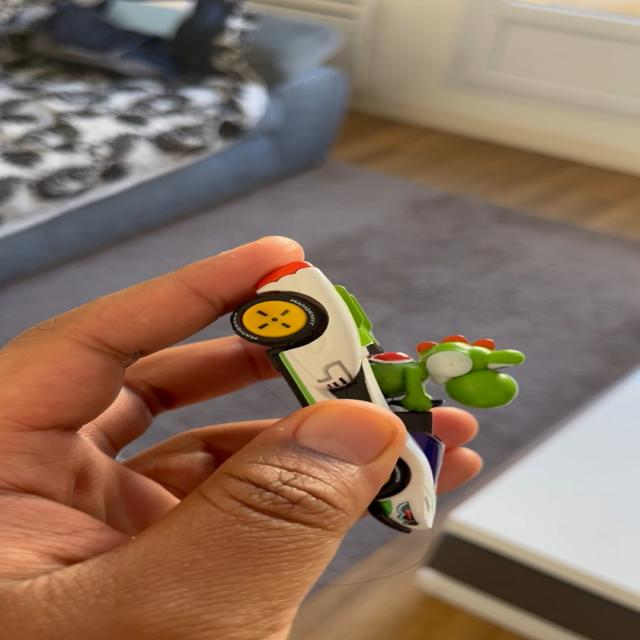yoshi: (219, 255, 545, 560)
